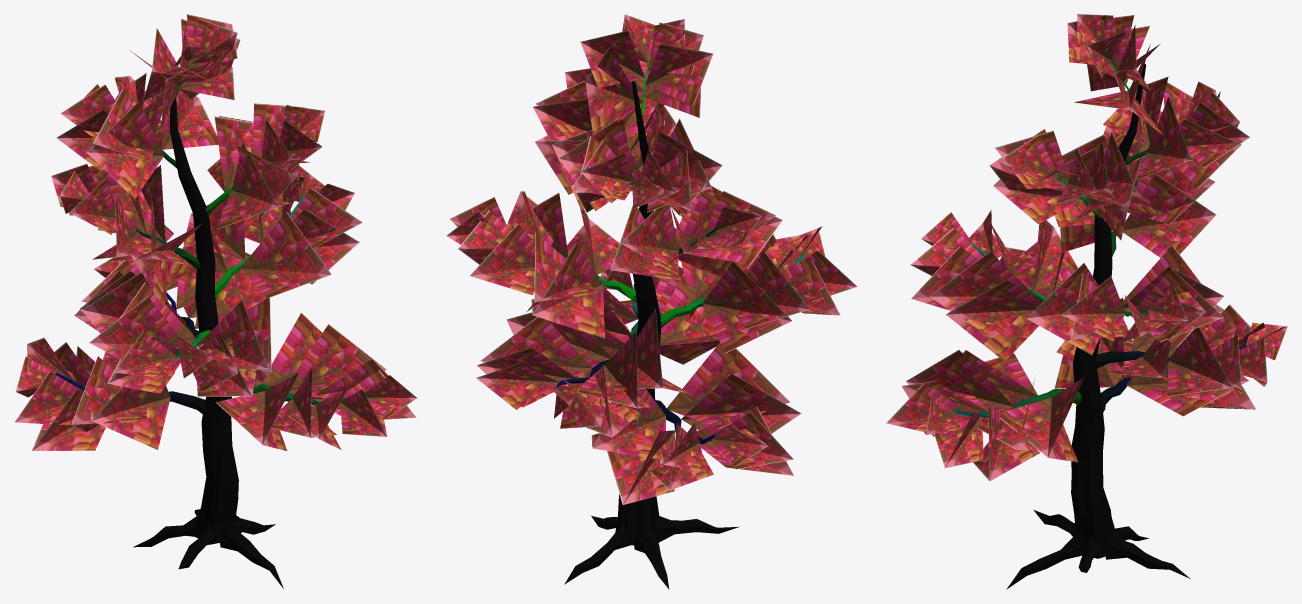
Rendered from RedMapleTree1.fbx.
The picture shows the model from 3 angles, left to right: view 1: azimuth 30°, elevation 25°; view 2: azimuth 150°, elevation 25°; view 3: azimuth 270°, elevation 25°; orthographic projection. The views are drawn at different scales.
Parts seen in each view (by area): view 1: RedMAple_Leaves, RedMaple_Tree; view 2: RedMAple_Leaves, RedMaple_Tree; view 3: RedMAple_Leaves, RedMaple_Tree.
Boxes of the visible parts, x1,y1,x2,y2 form: RedMAple_Leaves: [15, 14, 417, 450]; RedMaple_Tree: [55, 57, 367, 588]; RedMAple_Leaves: [446, 14, 857, 504]; RedMaple_Tree: [556, 54, 804, 589]; RedMAple_Leaves: [886, 14, 1287, 481]; RedMaple_Tree: [952, 60, 1253, 589].
Bounding box in the file's own units: 0.1079 × 0.1645 × 0.1089.
